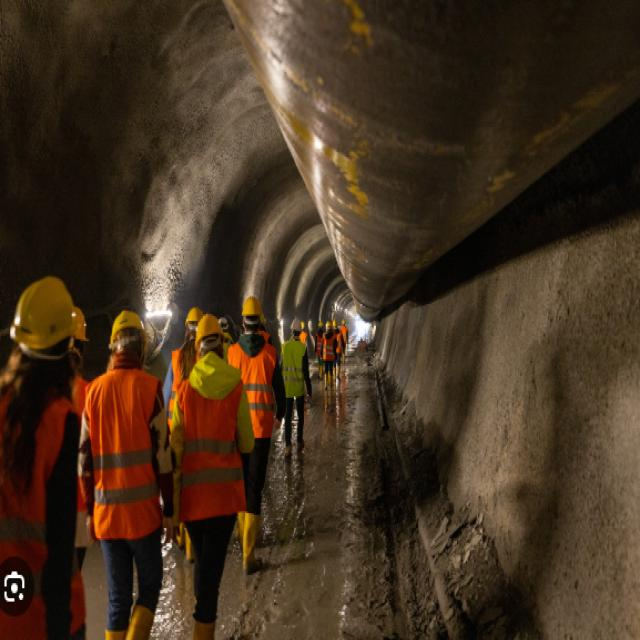helmet: (8, 275, 82, 395), (108, 310, 149, 370), (60, 304, 90, 364), (194, 314, 226, 356), (242, 294, 262, 332), (184, 305, 206, 338), (217, 315, 229, 337), (290, 318, 302, 340), (257, 312, 267, 326), (299, 321, 306, 332), (317, 320, 323, 330), (326, 321, 332, 331), (332, 318, 338, 328), (341, 318, 347, 327)
vest: (0, 386, 89, 640), (84, 366, 165, 544), (175, 373, 247, 524), (38, 374, 90, 516), (228, 342, 276, 439), (168, 347, 208, 441), (282, 339, 306, 398), (252, 330, 270, 364), (218, 332, 234, 368), (323, 334, 336, 362), (332, 331, 343, 354), (316, 332, 326, 355), (298, 331, 308, 349), (340, 326, 349, 342)
